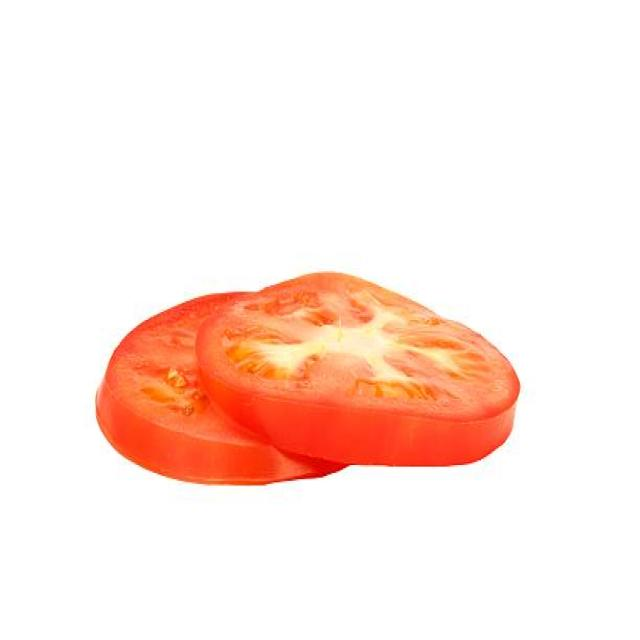Tomato: (71, 208, 538, 522)
